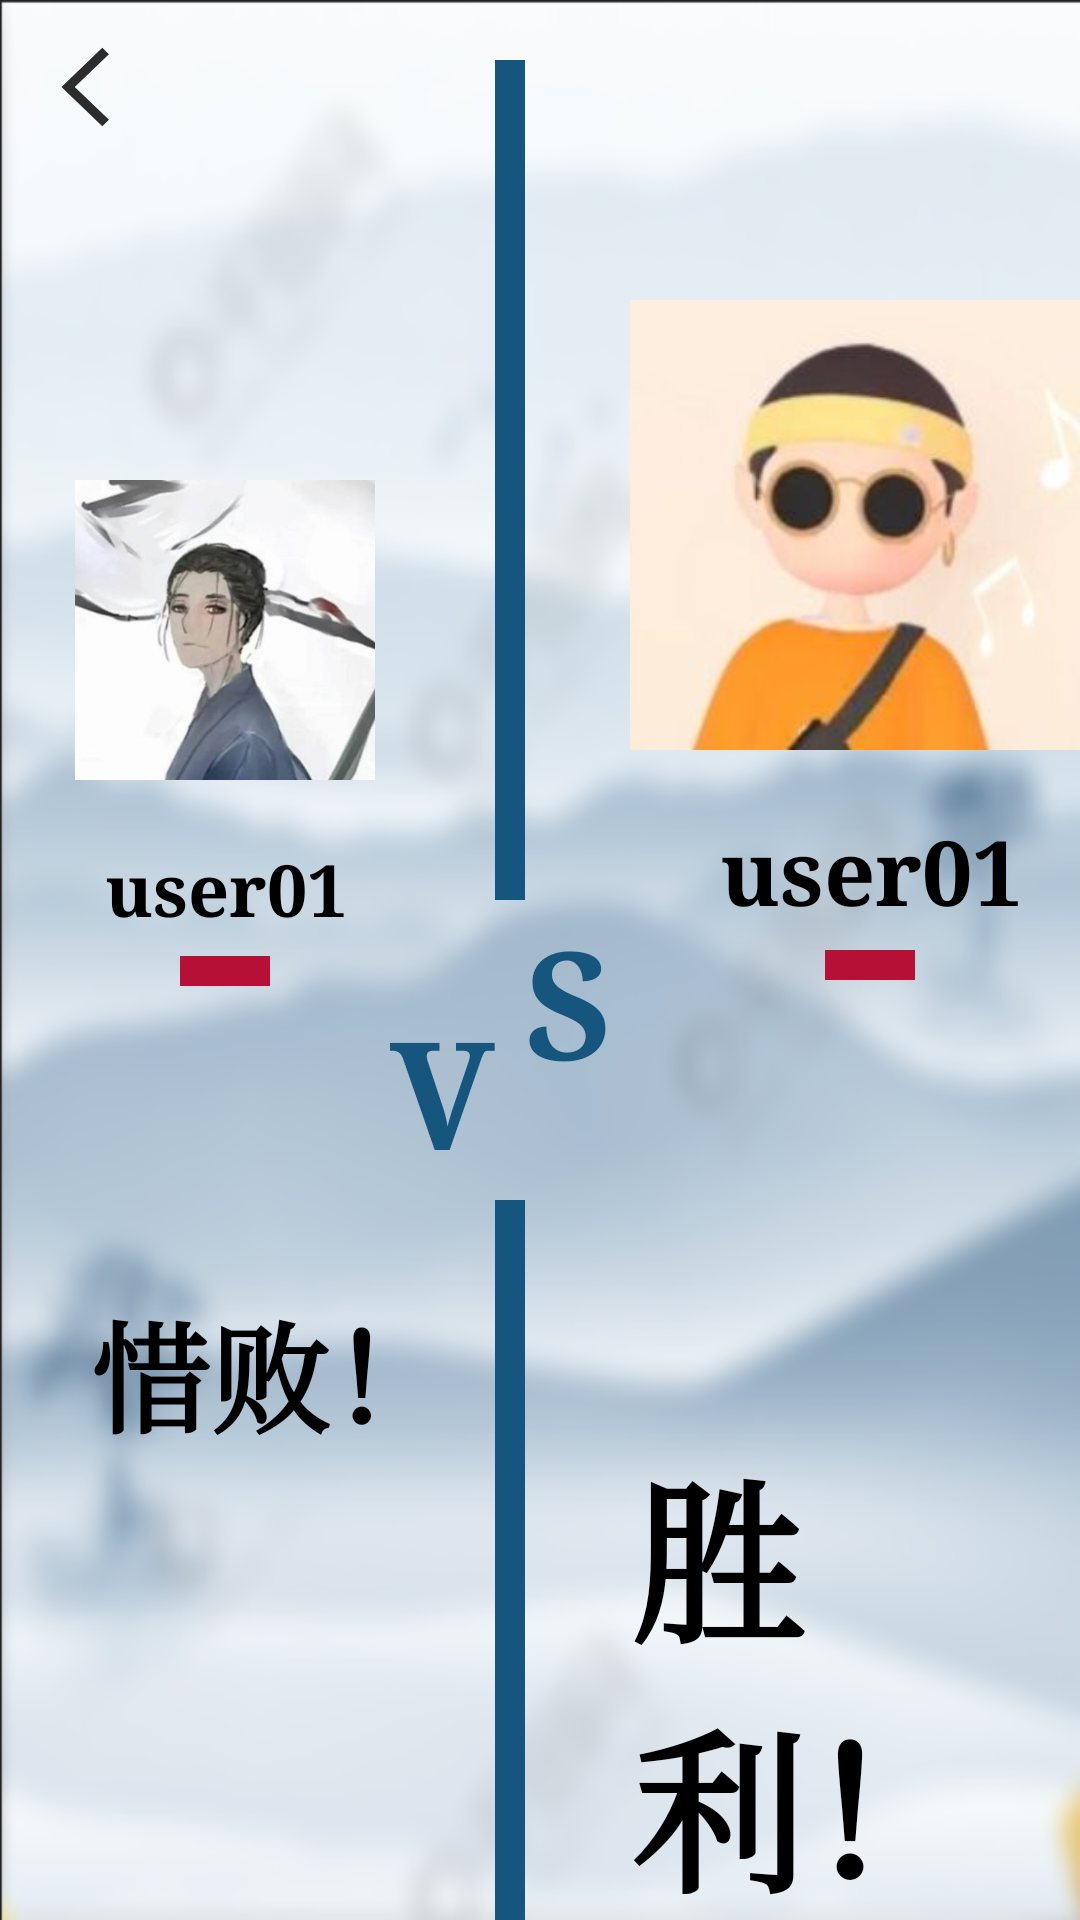

Where to tap for icons on this 1080 x 1920 app screen, as [x,y]:
back: [85,87]
